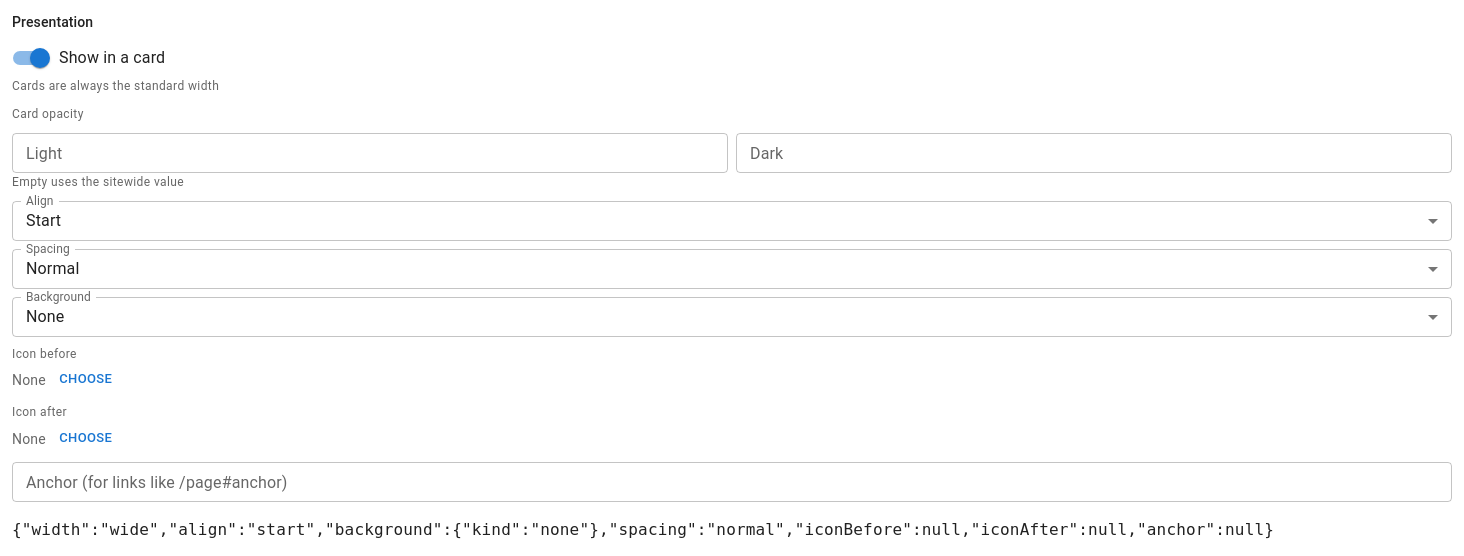
it: PresentationPanel: Card opacity › clamps out-of-range entries on blur
The width and height of the screenshot is (1464, 556).
Step 1. Type "150" into the number field with test id "presentation-card-opacity-light" → x=370, y=153, box 12,133 -> 728,173
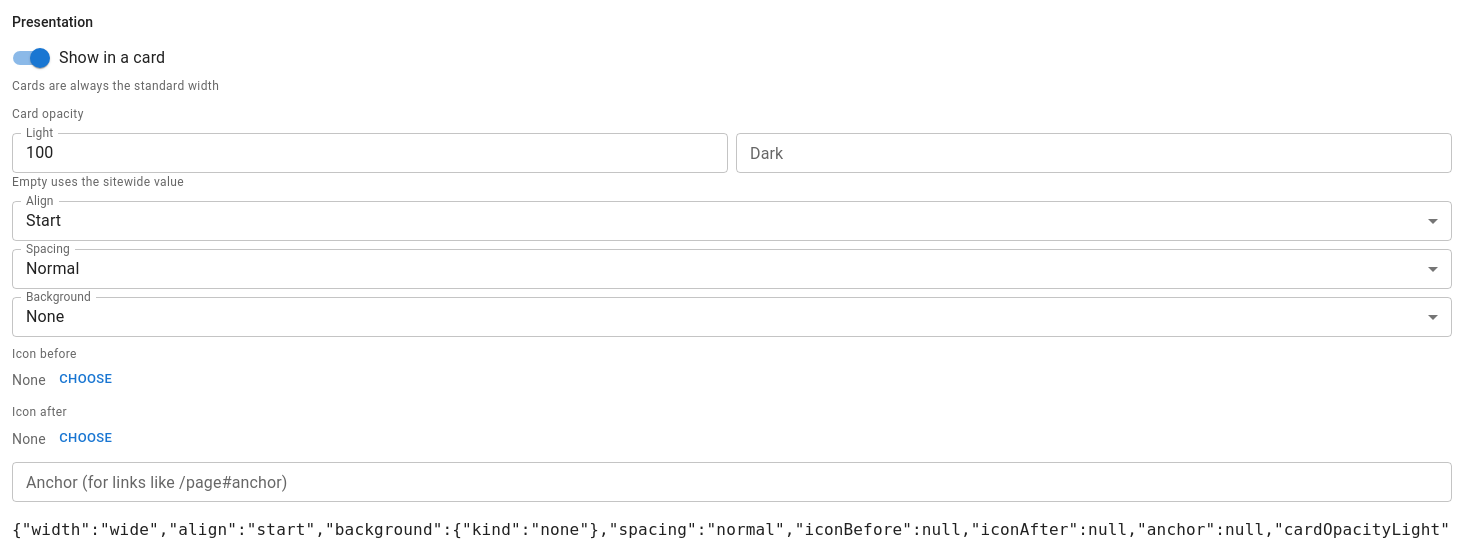
Step 2. Type "-5" into the number field with test id "presentation-card-opacity-dark" → x=1094, y=153, box 736,133 -> 1452,173
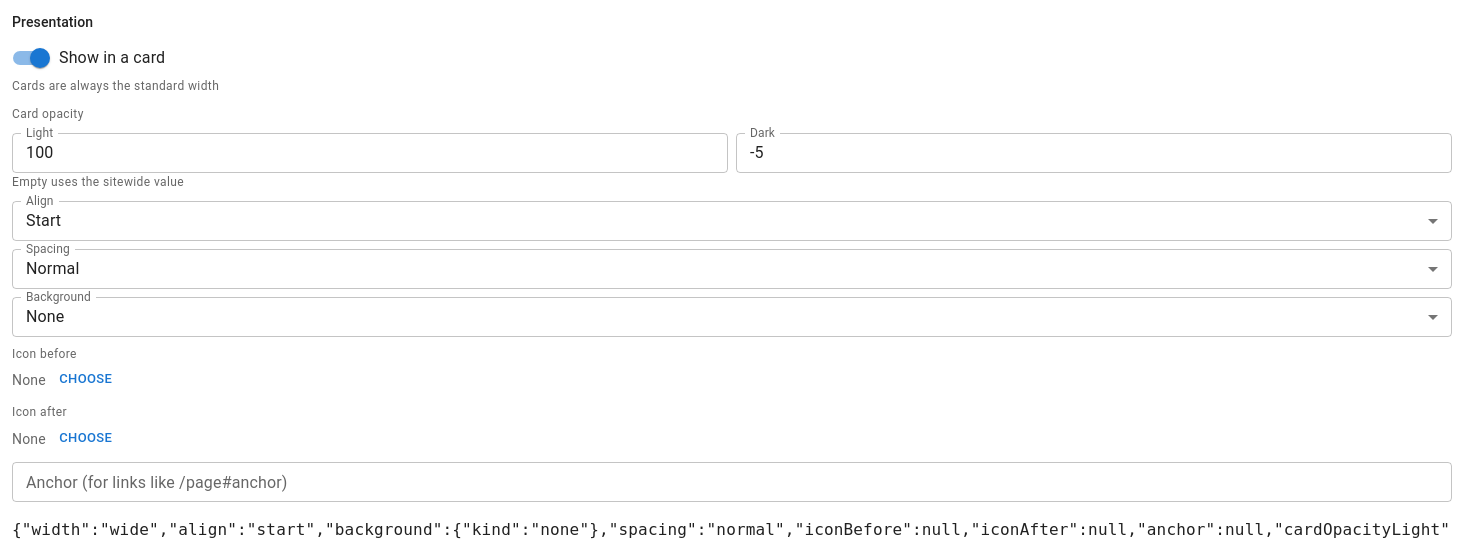
Step 3. Leave the number field with test id "presentation-card-opacity-dark", box 736,133 -> 1452,173
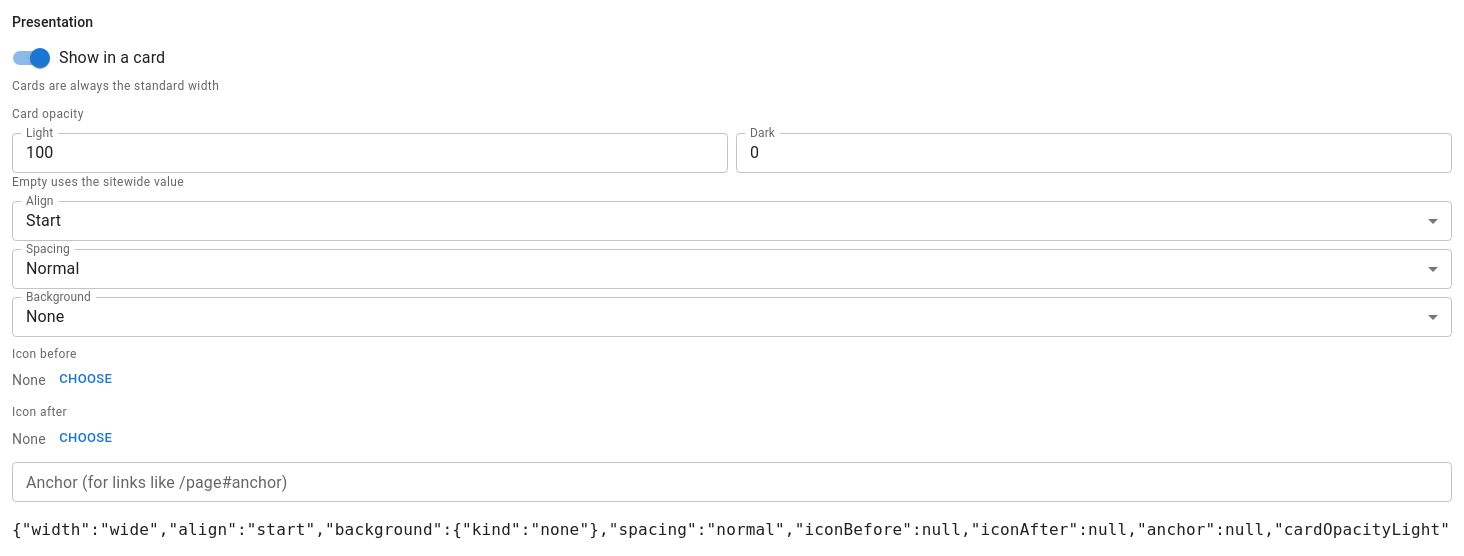
Expected: the number field with test id "presentation-card-opacity-light" holds "100", 12,133 -> 728,173
Expected: the number field with test id "presentation-card-opacity-dark" holds "0", 736,133 -> 1452,173
